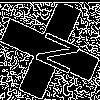N: (25, 25, 82, 77)
